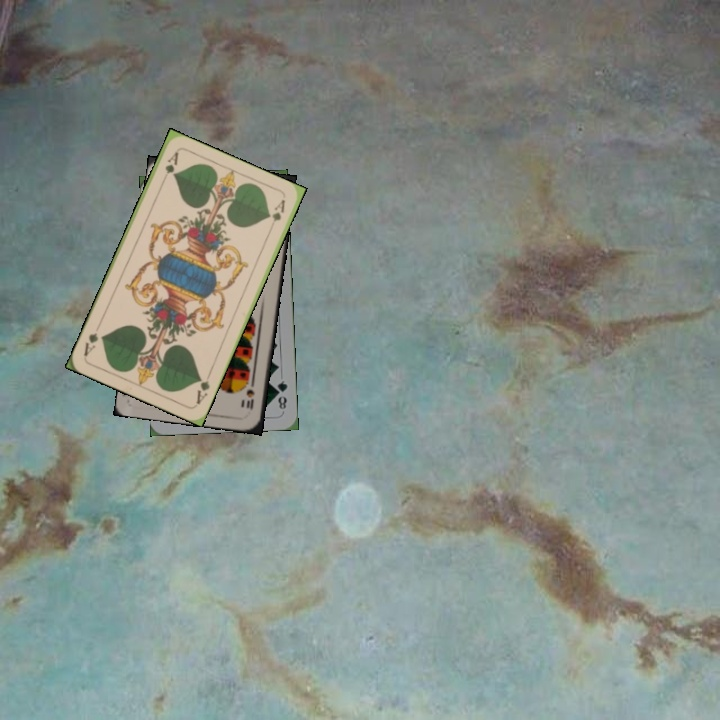G8: (272, 377, 290, 412)
GA: (157, 147, 181, 186), (192, 368, 214, 407)
S10: (242, 376, 257, 412)
